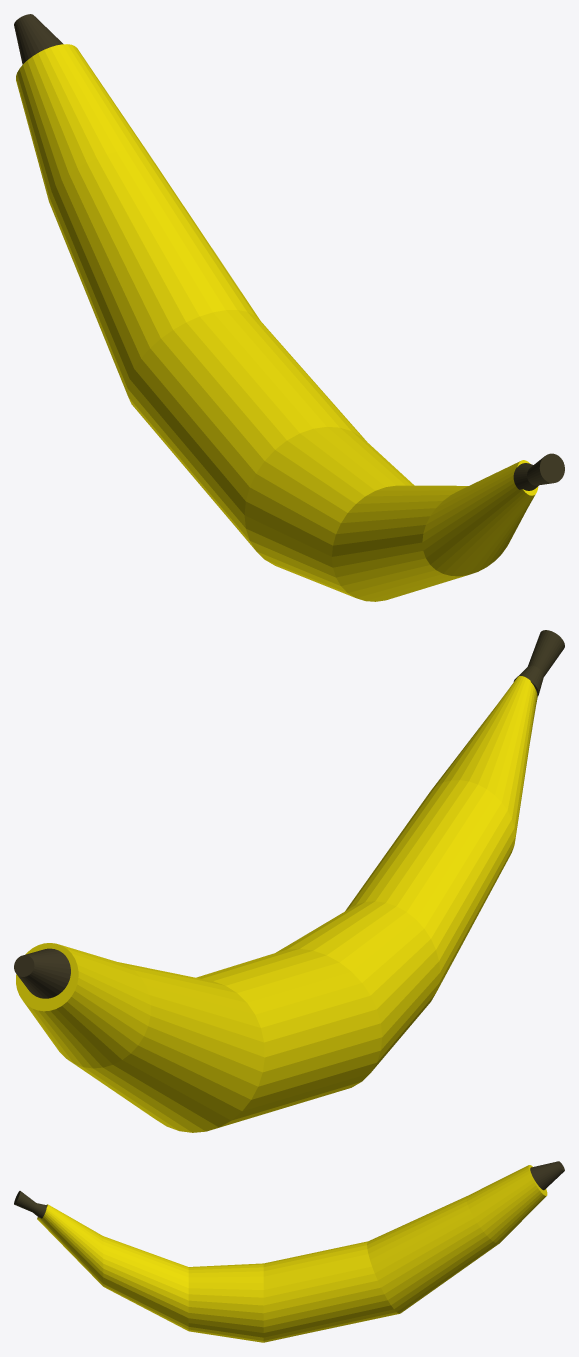
File: banana.fbx
3 views of the same model, one above another, from view 1: azimuth 30°, elevation 25°; view 2: azimuth 150°, elevation 25°; view 3: azimuth 270°, elevation 25° (orthographic). The views are drawn at different scales.
Parts seen in each view (by area): view 1: Цилиндр, Цилиндр.001, Цилиндр.002; view 2: Цилиндр, Цилиндр.001, Цилиндр.002; view 3: Цилиндр, Цилиндр.001, Цилиндр.002.
Boxes of the visible parts, x1,y1,x2,y2 form: Цилиндр: [16, 44, 538, 601]; Цилиндр.001: [14, 14, 63, 64]; Цилиндр.002: [513, 453, 564, 490]; Цилиндр: [16, 676, 537, 1132]; Цилиндр.001: [14, 948, 70, 998]; Цилиндр.002: [513, 630, 564, 696]; Цилиндр: [37, 1165, 547, 1342]; Цилиндр.001: [530, 1161, 564, 1190]; Цилиндр.002: [14, 1191, 46, 1218].
Bounding box in the file's own units: 25.05 × 59.85 × 168.
